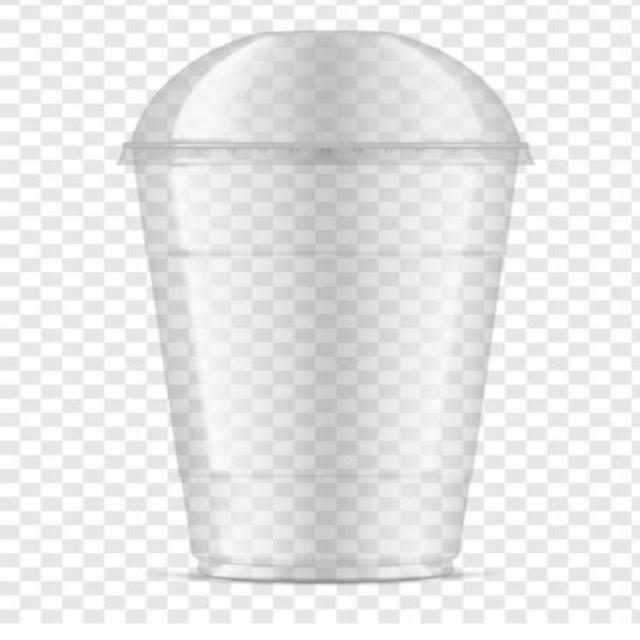recyclable: (102, 12, 548, 602)
